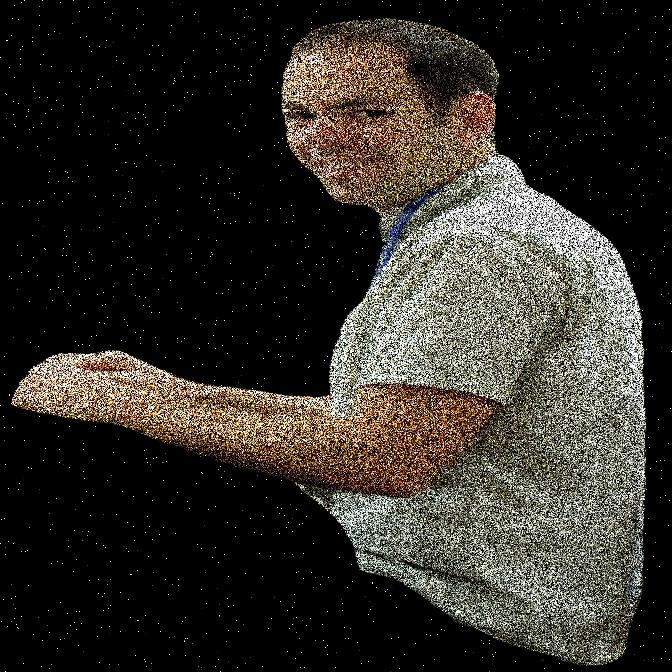Pessoa: (345, 0, 514, 671)
